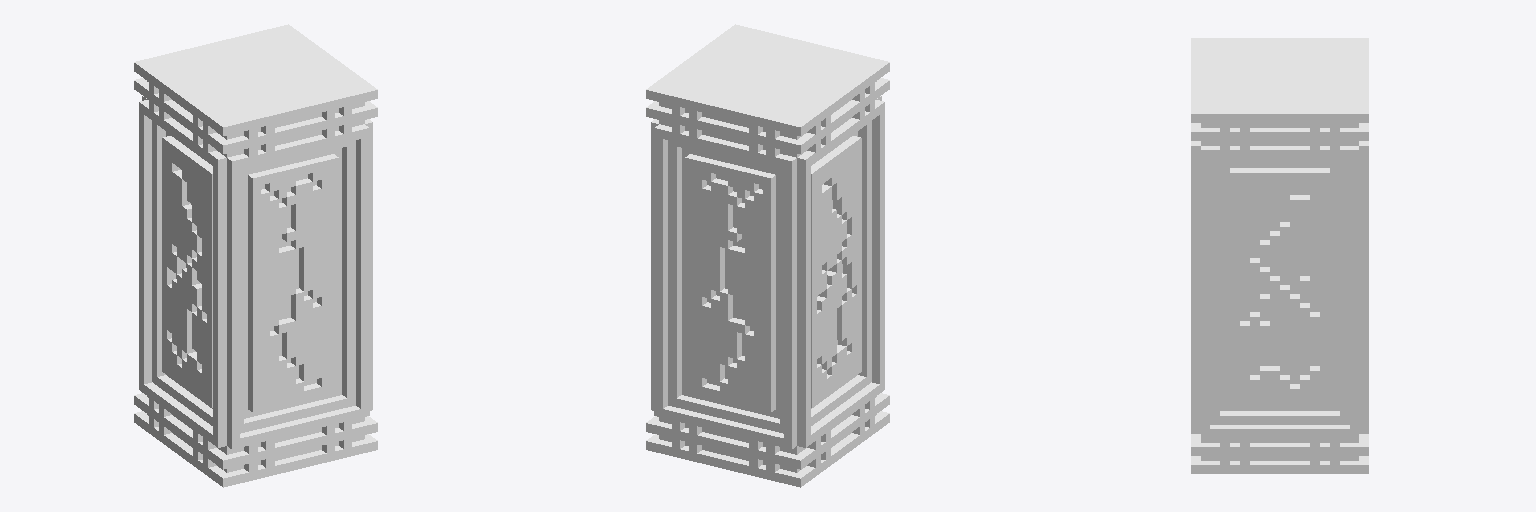
Rendered from Pillar4.obj.
3 renders of one model, left to right at view 1: azimuth 30°, elevation 25°; view 2: azimuth 150°, elevation 25°; view 3: azimuth 270°, elevation 25°, orthographic.
Visible parts, largest first — view 1: object 1; view 2: object 1; view 3: object 1.
Boxes of the visible parts, <box> form: object 1: <box>134,24,377,487</box>; object 1: <box>646,24,889,487</box>; object 1: <box>1191,38,1368,473</box>.
Bounding box in the file's own units: 1.8 × 4 × 1.8.